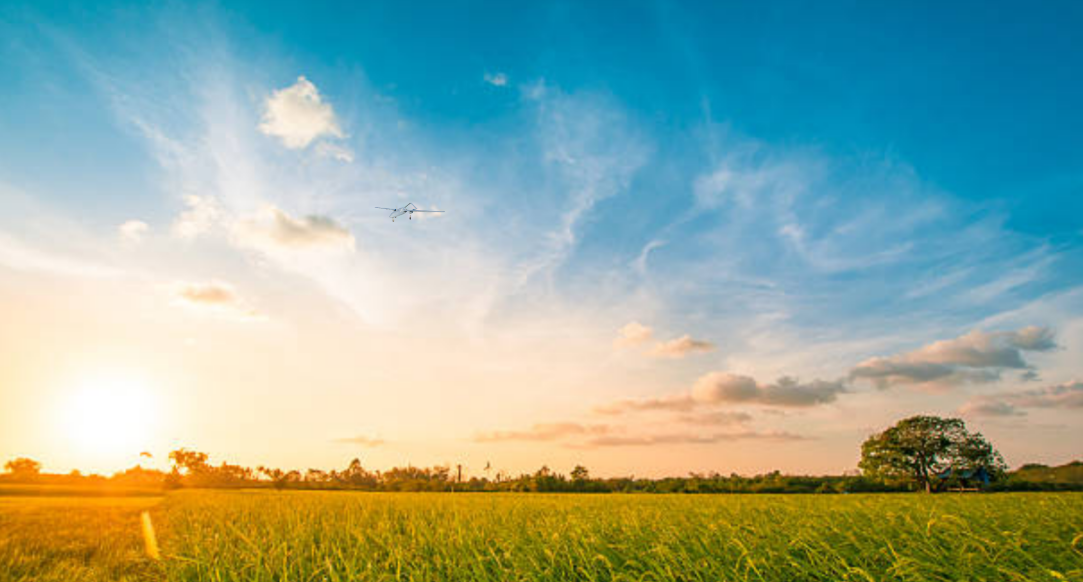military drone: (373, 201, 445, 222)
